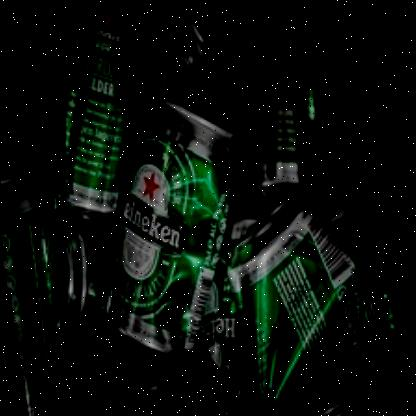Can: (102, 96, 235, 364), (225, 192, 373, 416), (43, 0, 160, 222), (0, 156, 78, 416), (234, 0, 322, 194), (352, 70, 416, 322), (346, 0, 416, 104)
